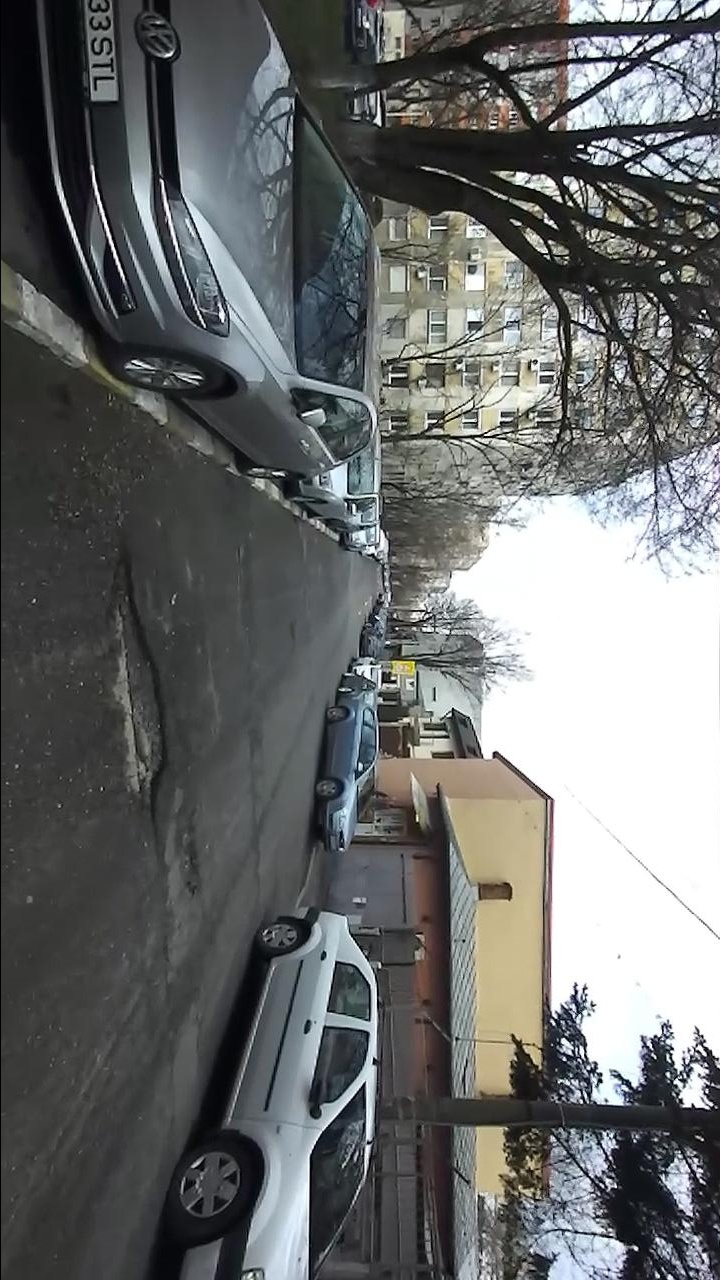pothole: (107, 543, 175, 835), (176, 813, 208, 906), (233, 541, 246, 590)
